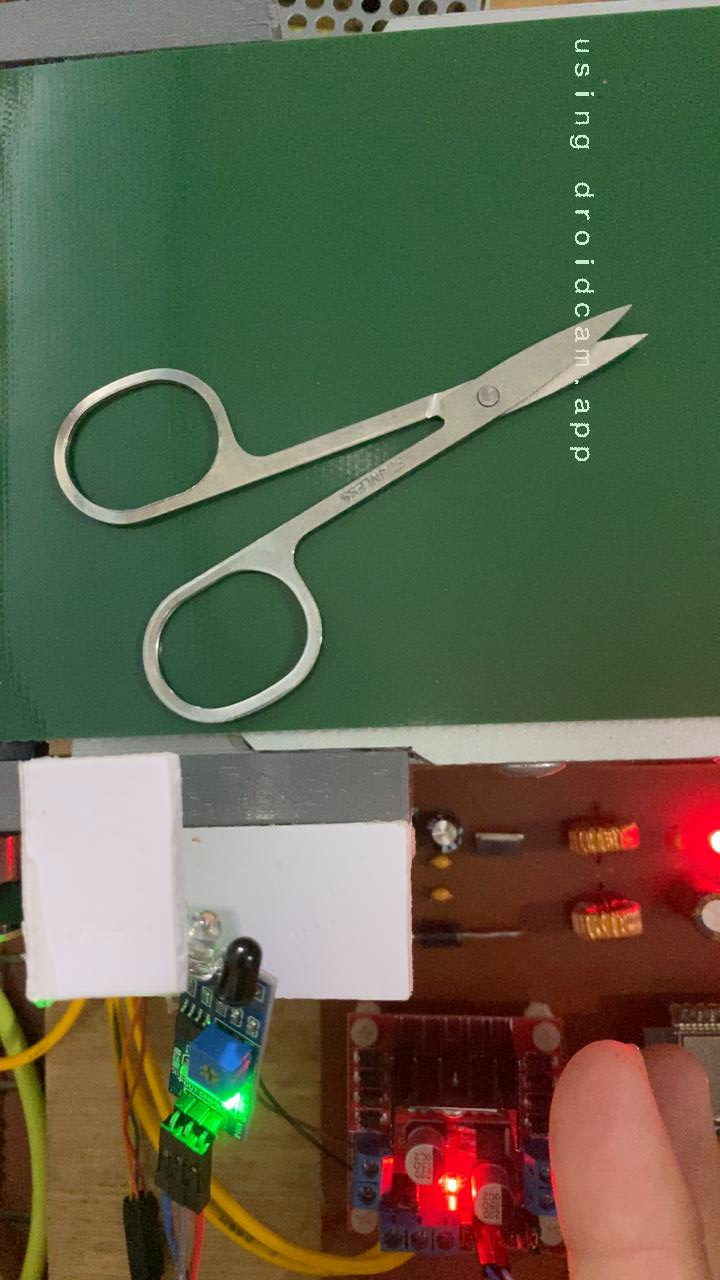scissor: (47, 303, 650, 728)
